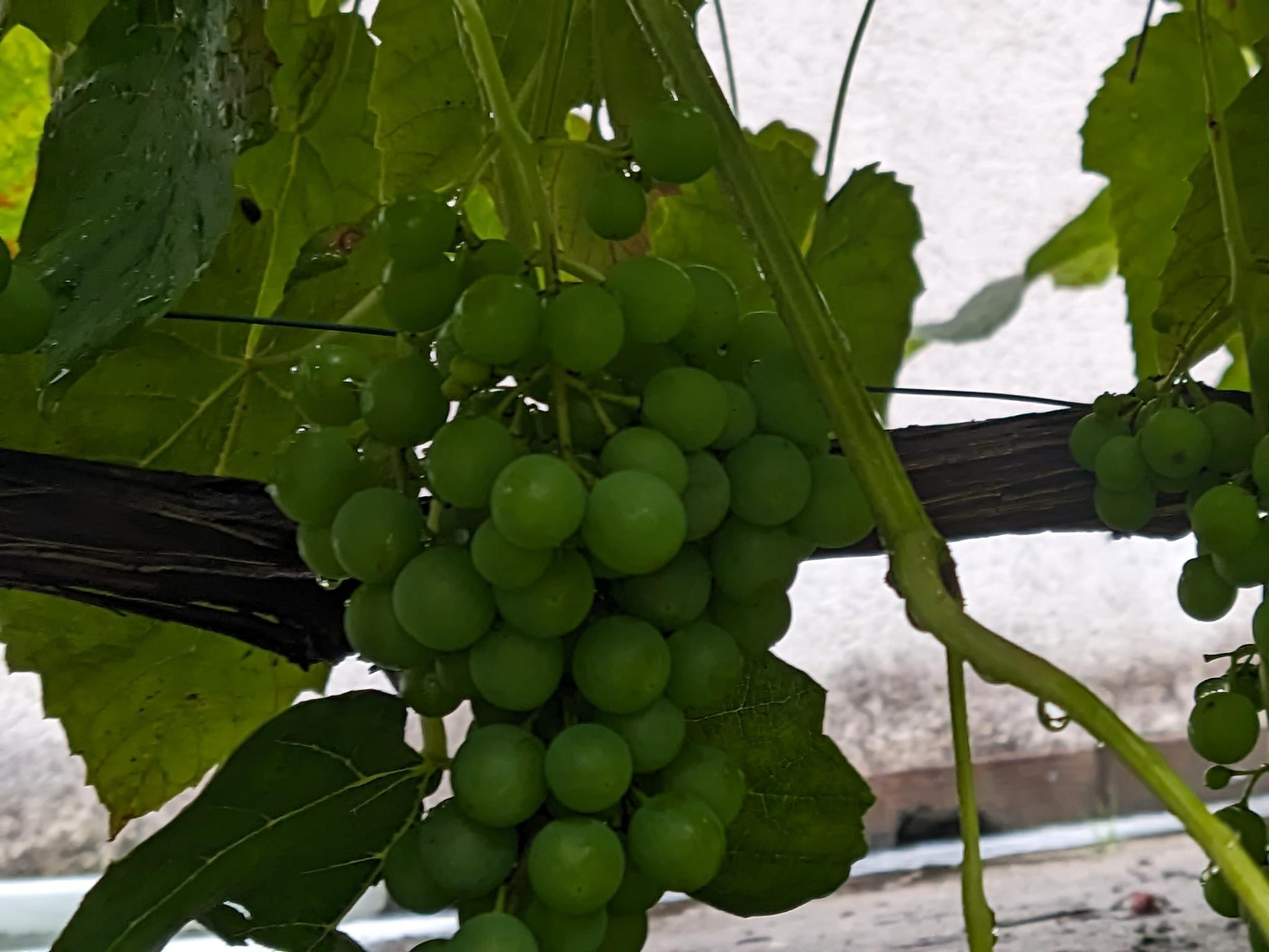Grape Unripe: (277, 98, 876, 952), (1069, 326, 1269, 951)
